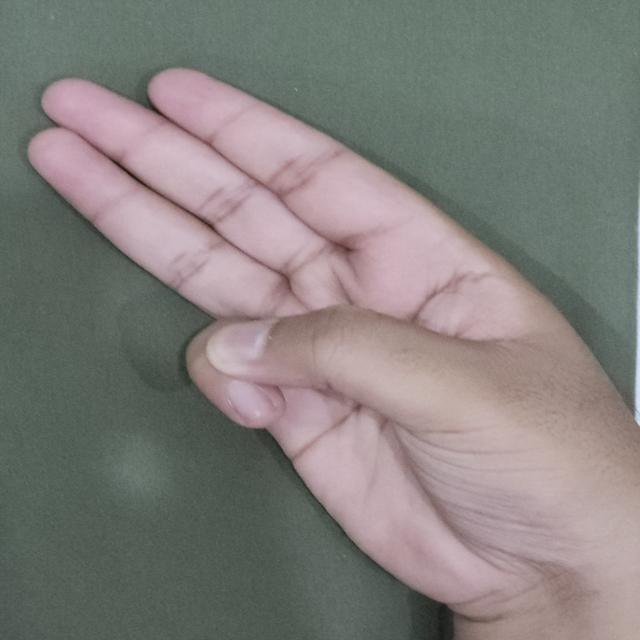ٹ: (11, 36, 640, 640)
